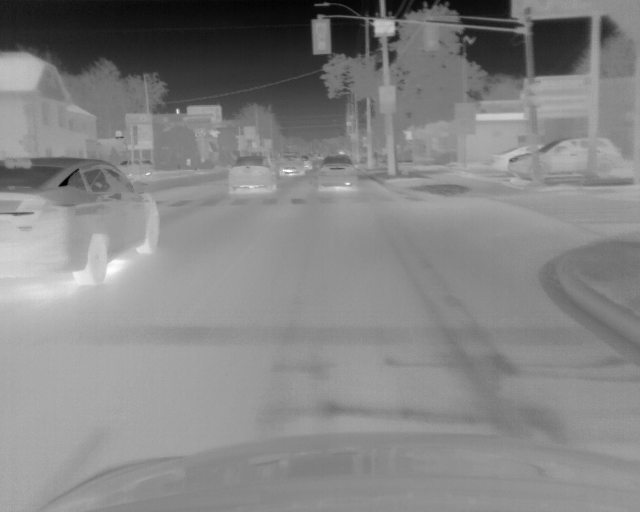car: (1, 157, 161, 288), (508, 135, 623, 180), (228, 154, 278, 197), (490, 143, 542, 171), (319, 161, 358, 189), (277, 150, 305, 176), (322, 153, 350, 165), (298, 154, 315, 173)
